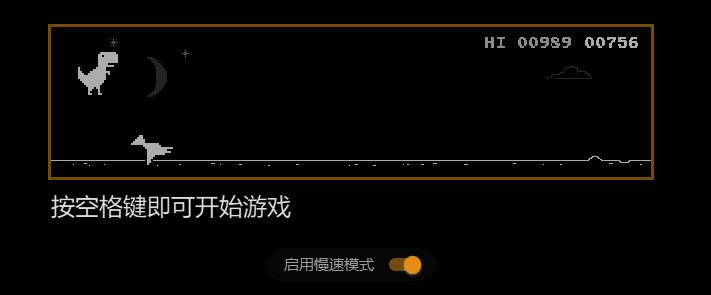bird: (130, 134, 174, 164)
dino: (75, 50, 120, 97)
